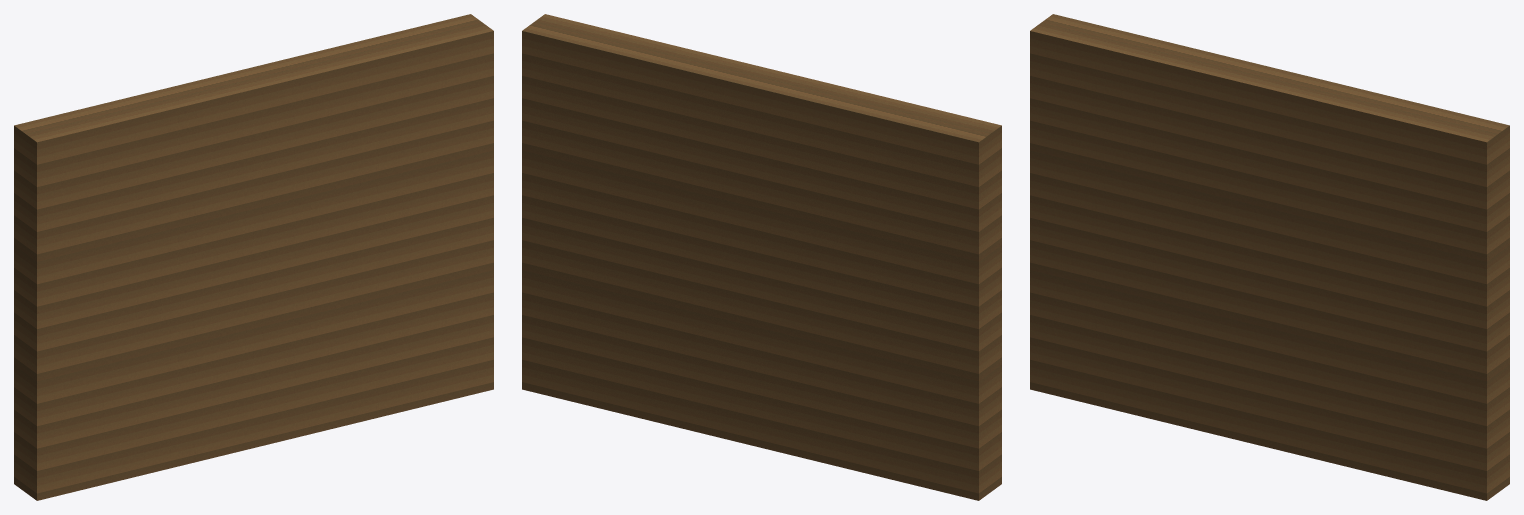
3 renders of one model, left to right at view 1: azimuth 30°, elevation 25°; view 2: azimuth 150°, elevation 25°; view 3: azimuth 330°, elevation 25°, orthographic.
Parts seen in each view (by area): view 1: wall_wood_1u_production_run001; view 2: wall_wood_1u_production_run001; view 3: wall_wood_1u_production_run001.
Boxes of the visible parts, bbox=[...] form: wall_wood_1u_production_run001: bbox=[14, 14, 493, 500]; wall_wood_1u_production_run001: bbox=[522, 14, 1001, 500]; wall_wood_1u_production_run001: bbox=[1030, 14, 1509, 500].
Size of the model in its own units: 4 by 3 by 0.35.
Materials: 1 (1 with a texture image).
